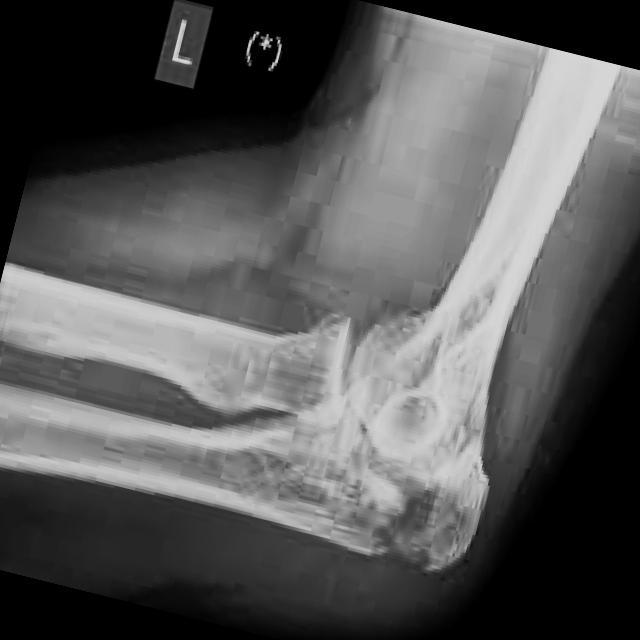Comminuted Fracture: (374, 470, 464, 586)
